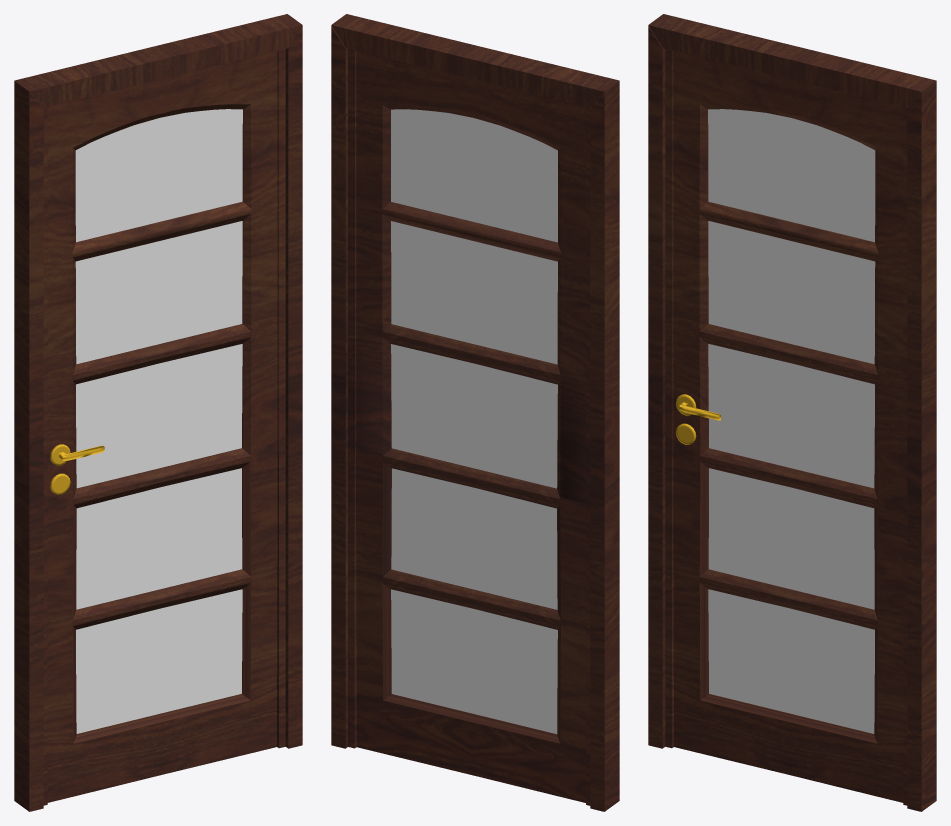
File: PUERTA11_NEBRASKA.glb
3 renders of one model, left to right at view 1: azimuth 30°, elevation 25°; view 2: azimuth 150°, elevation 25°; view 3: azimuth 330°, elevation 25°, orthographic.
Visible parts, largest first — view 1: CRISTAL_GRANDE, Puerta11_NEBRASKA, Puerta11_Marco, Puerta11_Cerradura; view 2: CRISTAL_GRANDE, Puerta11_NEBRASKA, Puerta11_Marco; view 3: CRISTAL_GRANDE, Puerta11_NEBRASKA, Puerta11_Marco, Puerta11_Cerradura.
Part boxes in pixels (bbox=[...]): CRISTAL_GRANDE: bbox=[75, 109, 242, 733]; Puerta11_NEBRASKA: bbox=[43, 49, 285, 805]; Puerta11_Marco: bbox=[14, 14, 302, 811]; Puerta11_Cerradura: bbox=[50, 444, 104, 494]; CRISTAL_GRANDE: bbox=[391, 109, 557, 733]; Puerta11_NEBRASKA: bbox=[348, 49, 590, 805]; Puerta11_Marco: bbox=[331, 14, 619, 811]; CRISTAL_GRANDE: bbox=[708, 109, 875, 733]; Puerta11_NEBRASKA: bbox=[665, 49, 907, 805]; Puerta11_Marco: bbox=[648, 14, 936, 811]; Puerta11_Cerradura: bbox=[675, 394, 721, 444].
Size of the model in its own units: 769 by 1936 by 85.
Materials: 5 (3 with a texture image).
